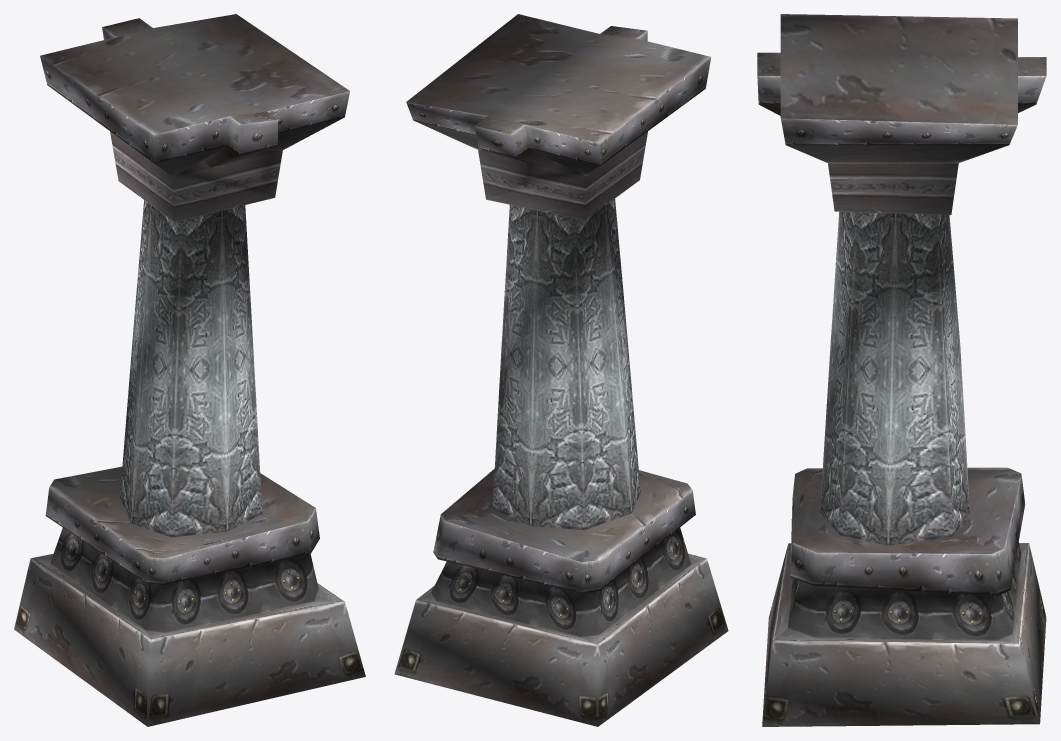
The model's file is Pillar.fbx.
3 renders of one model, left to right at view 1: azimuth 30°, elevation 25°; view 2: azimuth 150°, elevation 25°; view 3: azimuth 270°, elevation 25°, orthographic. The views are drawn at different scales.
Visible parts, largest first — view 1: id_pillar; view 2: id_pillar; view 3: id_pillar.
Boxes of the visible parts, bbox=[...] form: id_pillar: bbox=[14, 14, 365, 726]; id_pillar: bbox=[394, 14, 728, 726]; id_pillar: bbox=[757, 14, 1046, 726].
Bounding box in the file's own units: 337 × 875 × 376.
